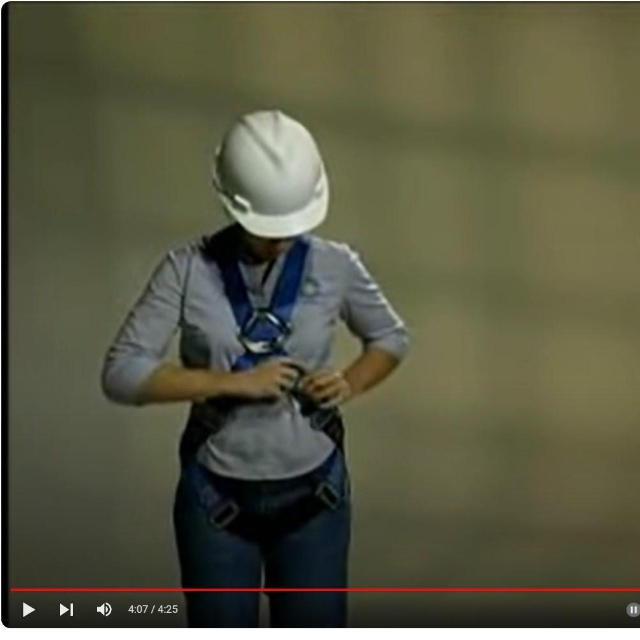Arnes_seguridad: (176, 225, 350, 548)
